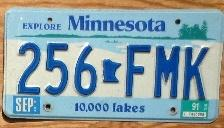2: (15, 40, 43, 94)
5: (43, 41, 70, 95)
6: (72, 43, 98, 96)
F: (123, 43, 153, 98)
K: (181, 45, 211, 100)
M: (153, 45, 181, 99)
